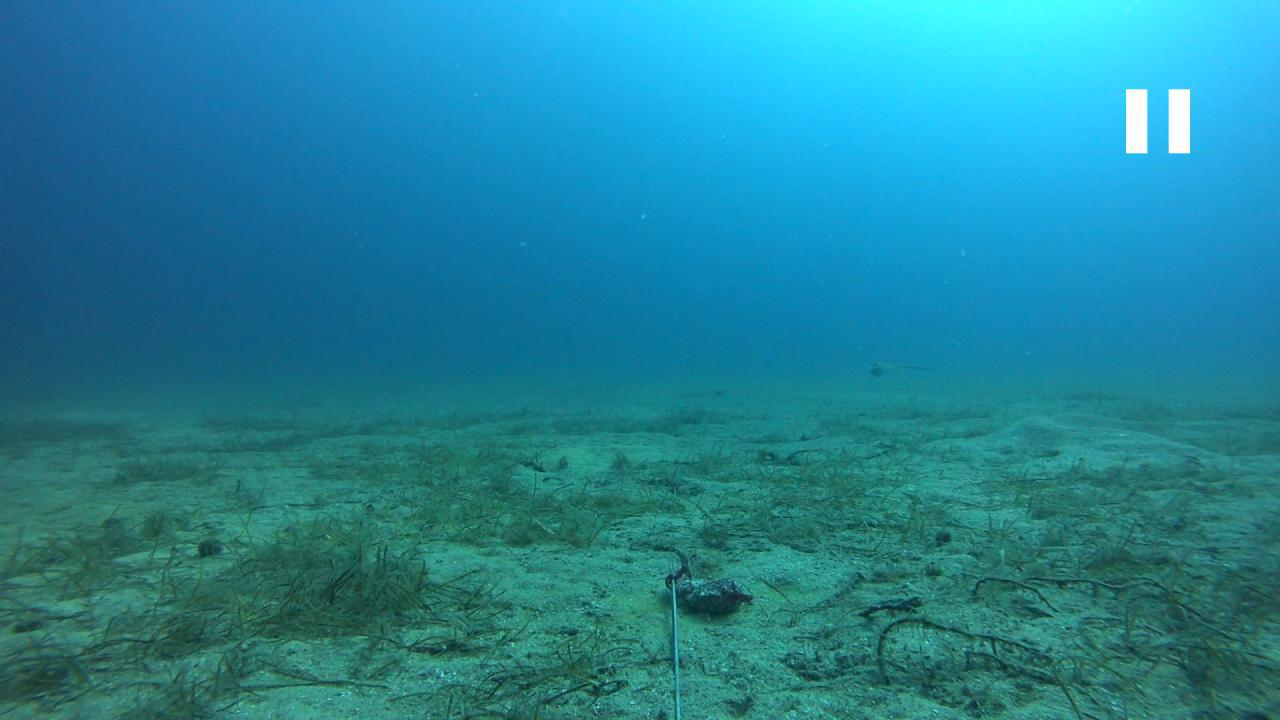dasyatis: (866, 361, 928, 376)
